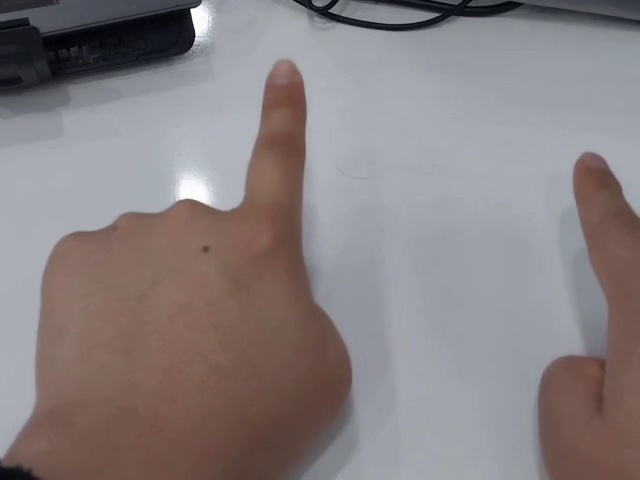fingers: (571, 151, 624, 196), (262, 57, 308, 105)
